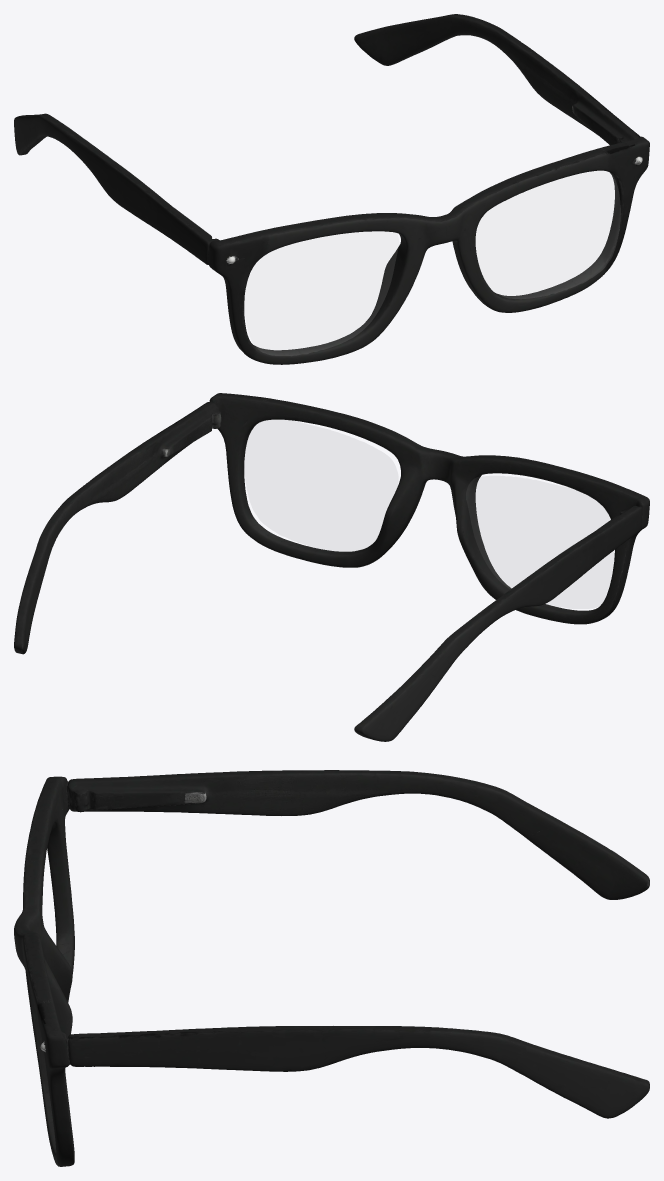
Rendered from wayfarer-optico.glb.
The picture shows the model from 3 angles, top to bottom: view 1: azimuth 30°, elevation 25°; view 2: azimuth 150°, elevation 25°; view 3: azimuth 270°, elevation 25°; orthographic projection. The views are drawn at different scales.
Visible parts, largest first — view 1: Object_5, lente; view 2: Object_5, lente; view 3: Object_5.
Part boxes in pixels (left/top/right/bottom): Object_5: left=14, top=14, right=649, bottom=364; lente: left=245, top=171, right=620, bottom=355; Object_5: left=14, top=393, right=649, bottom=741; lente: left=245, top=420, right=614, bottom=608; Object_5: left=14, top=770, right=649, bottom=1166.
Bounding box in the file's own units: 1.84 × 0.5893 × 1.9.
2 materials, 1 textured.
